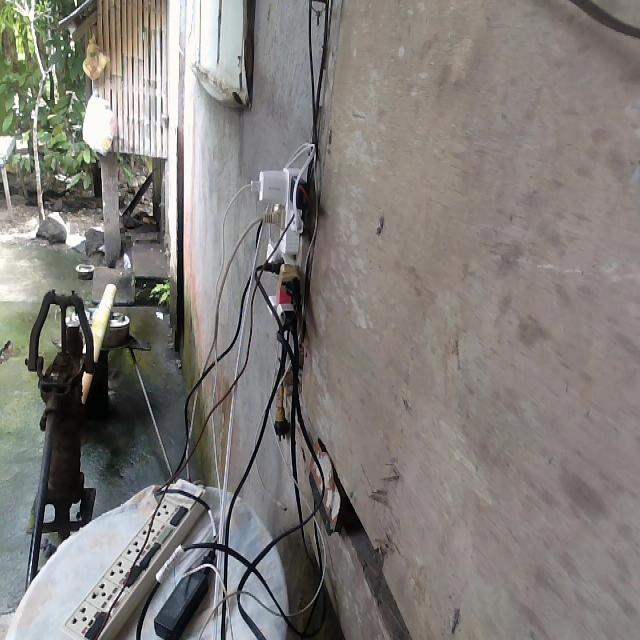-: (238, 159, 315, 333)
